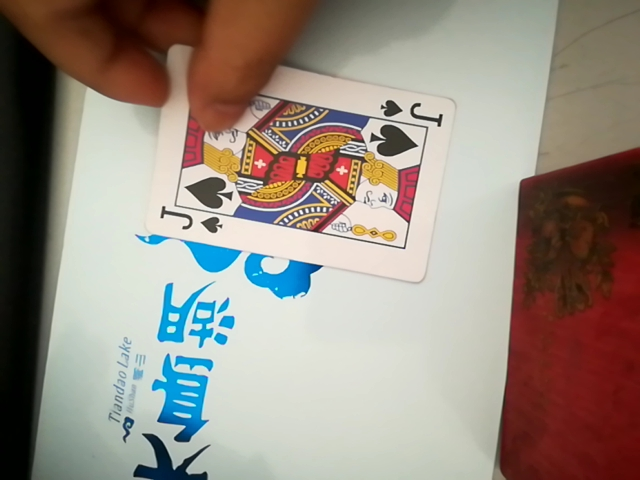ht j: (146, 51, 459, 278)
